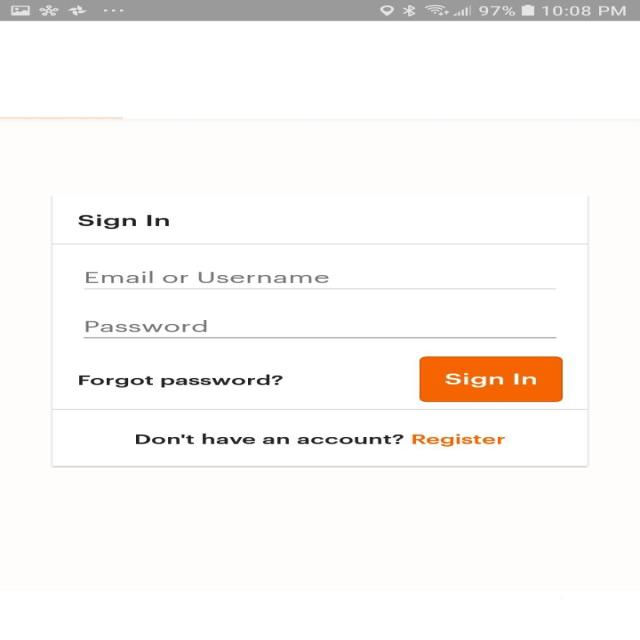EditText: (82, 270, 556, 290), (82, 320, 556, 338)
Text: (135, 433, 505, 447), (85, 270, 329, 283), (78, 374, 283, 387), (85, 319, 207, 332), (76, 214, 169, 230)
TextButton: (418, 356, 562, 402)
